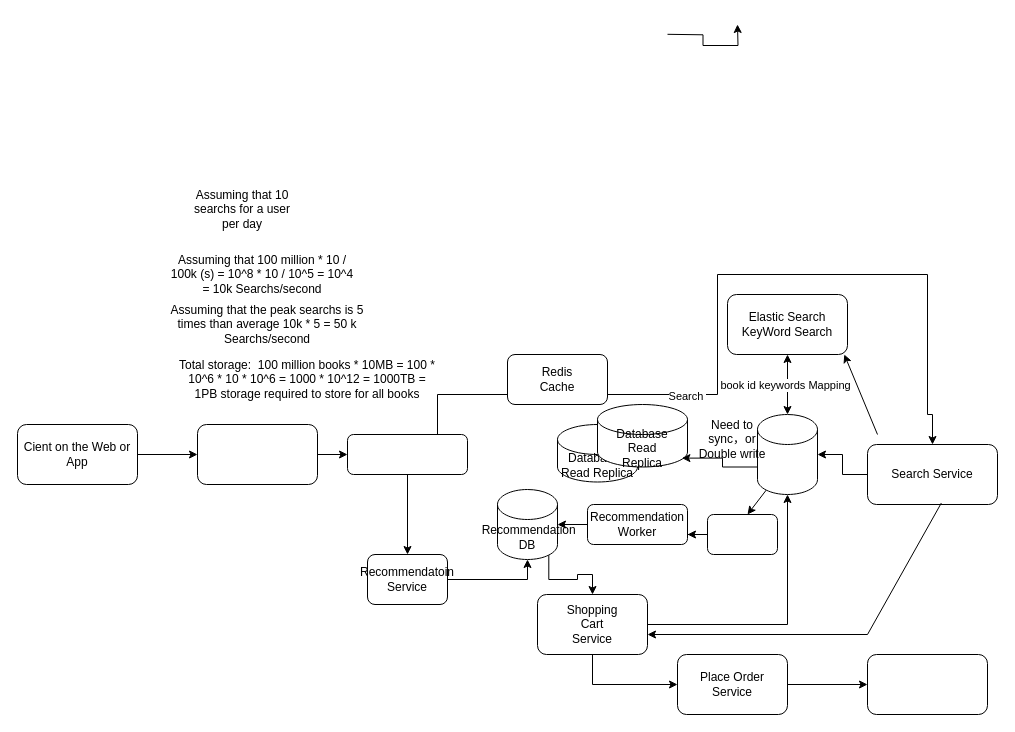
The diagram is 1015 pixels wide and 732 high, and some of its shapes have lost their labels. The shapes that lost their labels are listed below. From the top down, each one's centre as x and y in pixels, then its label:
At [257,454]: "API Gateway With Auth Service".
At [407,454]: "Load Balancer".
At [787,454]: "Relational Database Master".
At [742,534]: "MQ".
At [927,684]: "Third-Party Payment".
